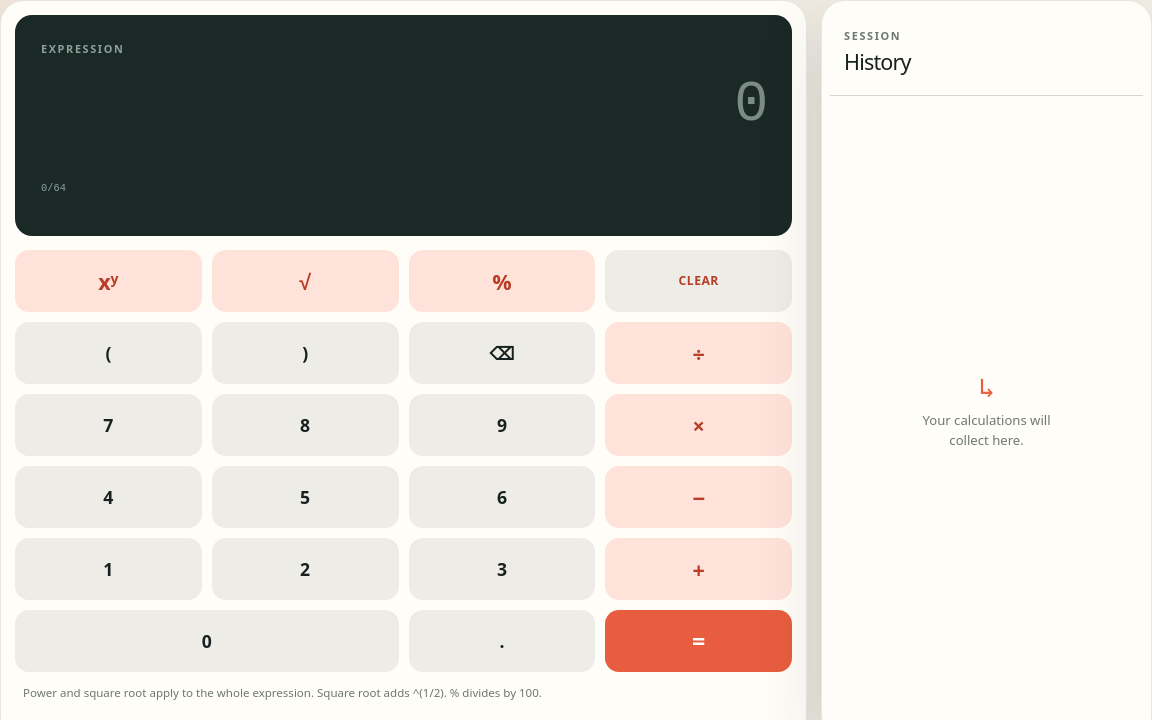
it: calculator input › blocks leading plus and invalid keypad operator sequences
Click the button named "Add": [699, 570] box [605,538,792,600]
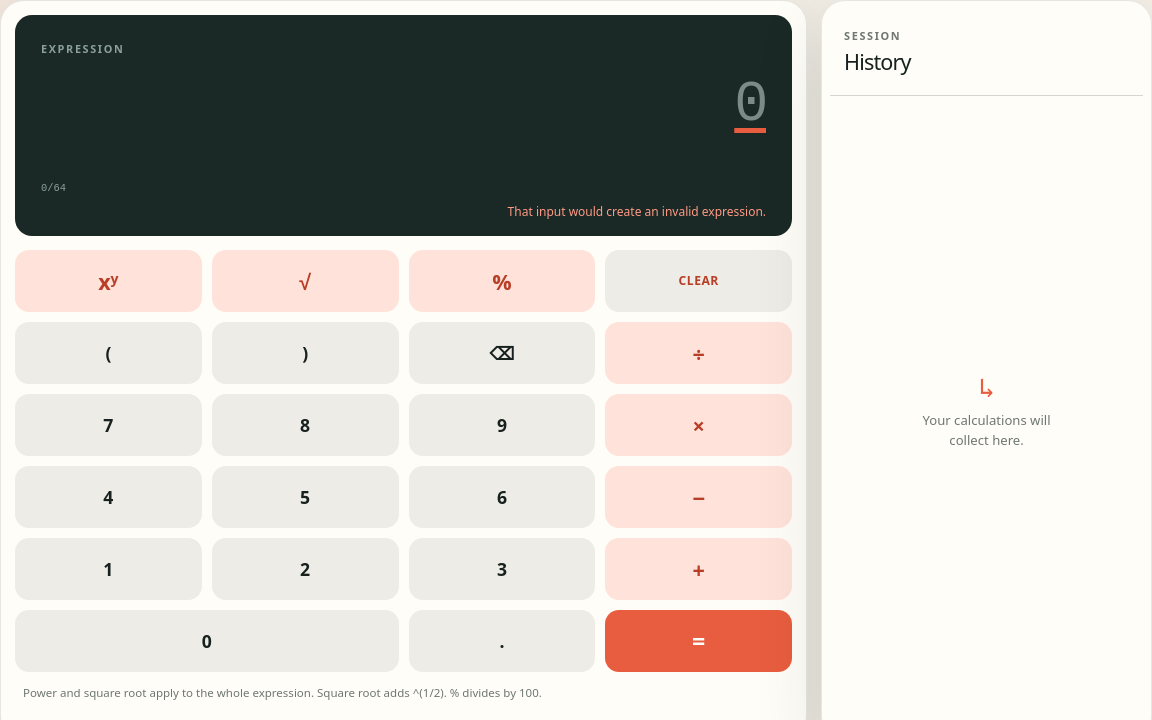
Expected: the field is empty, [41,71,766,140]
Click the button "1": [108, 570] box [15,538,202,600]
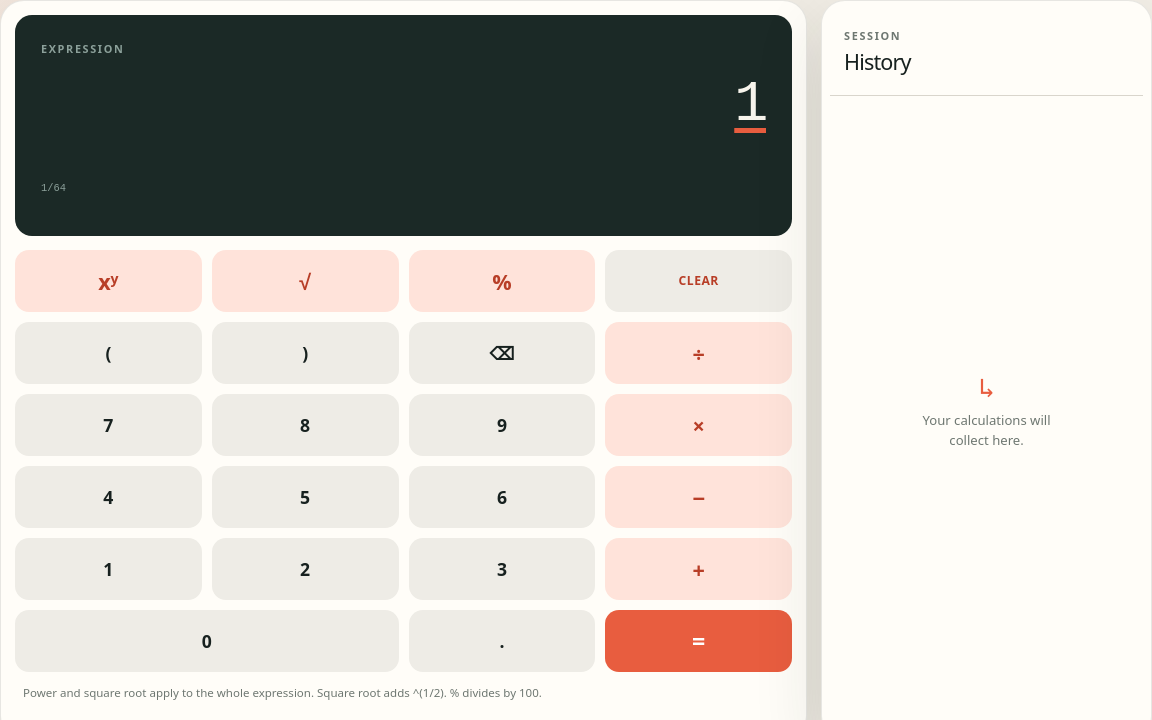
Click the button named "Add": [699, 570] box [605,538,792,600]
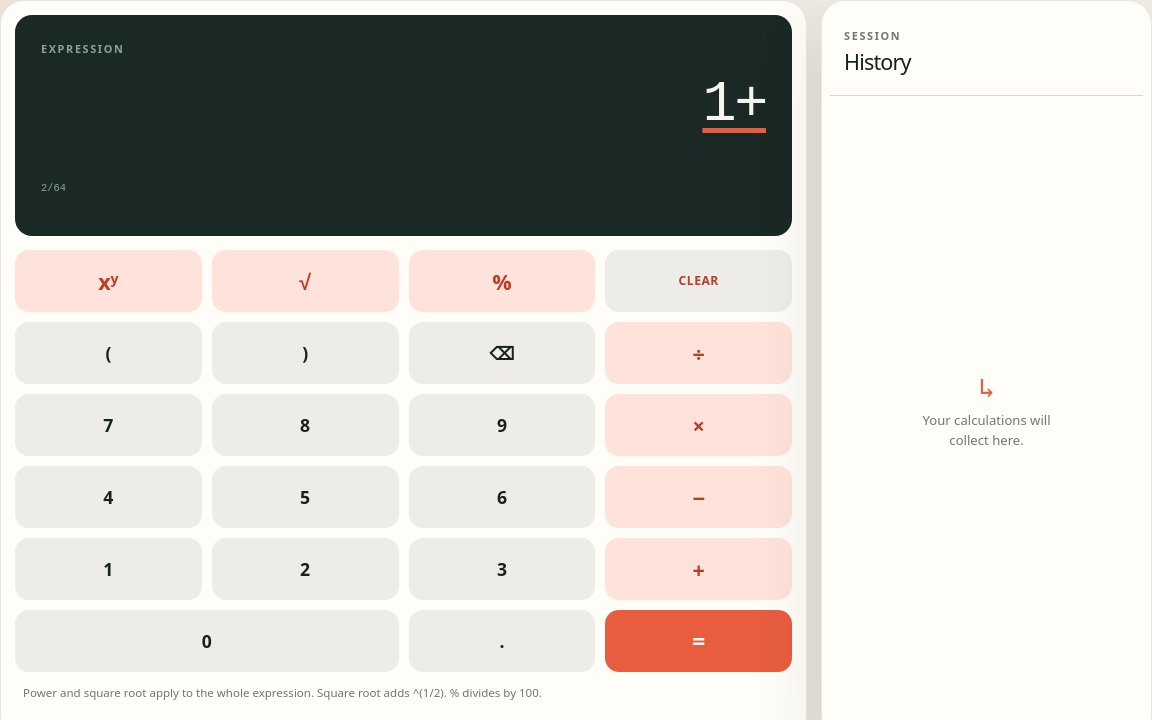
Click the button named "Multiply": [699, 426] box [605,394,792,456]
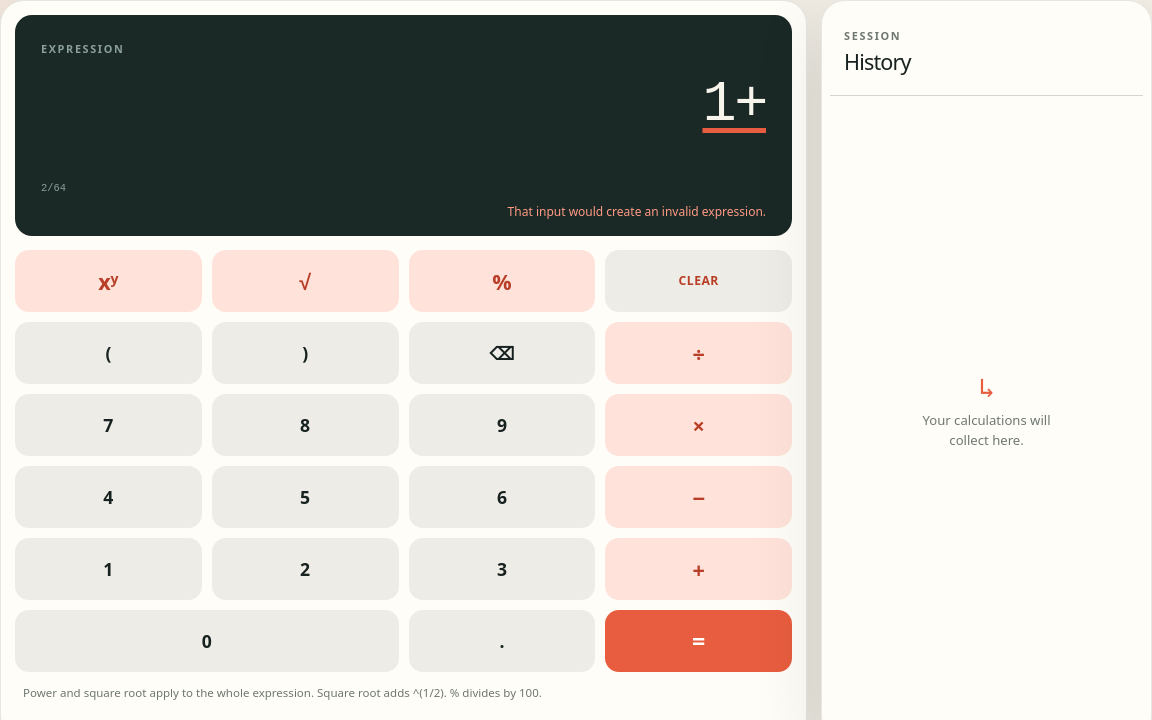
Expected: the field holds "1+", [41,71,766,140]
Click the button "2": [305, 570] box [212,538,399,600]
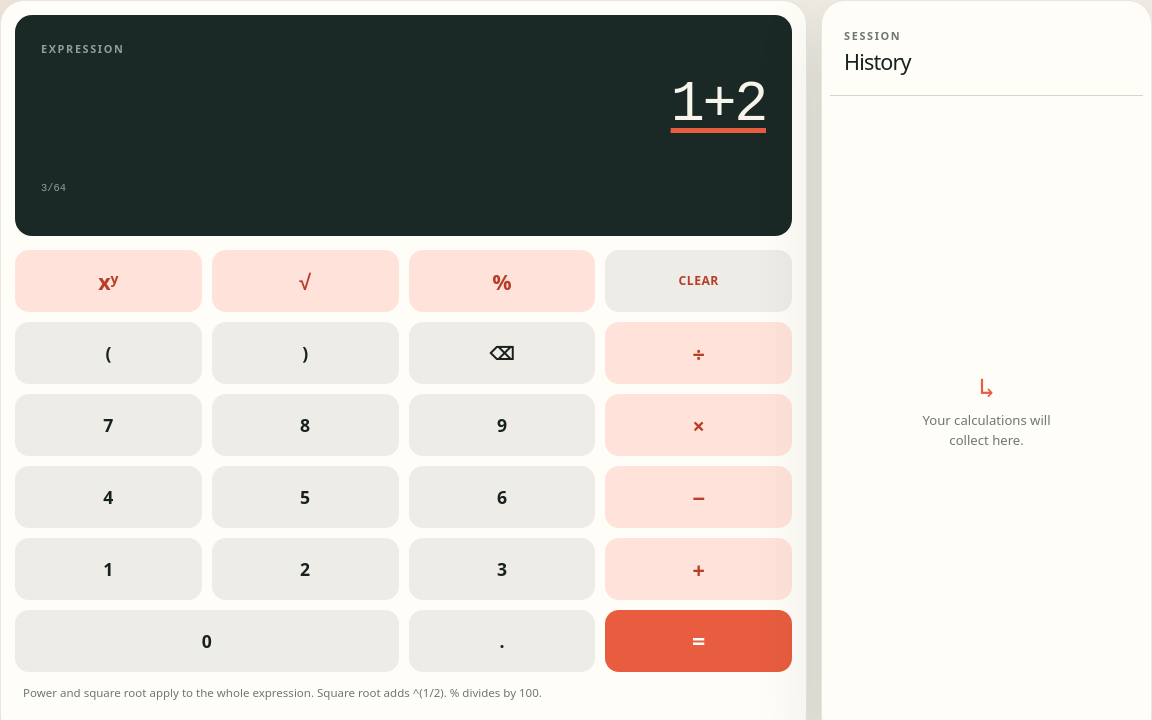
Expected: the field holds "1+2", [41,71,766,140]
